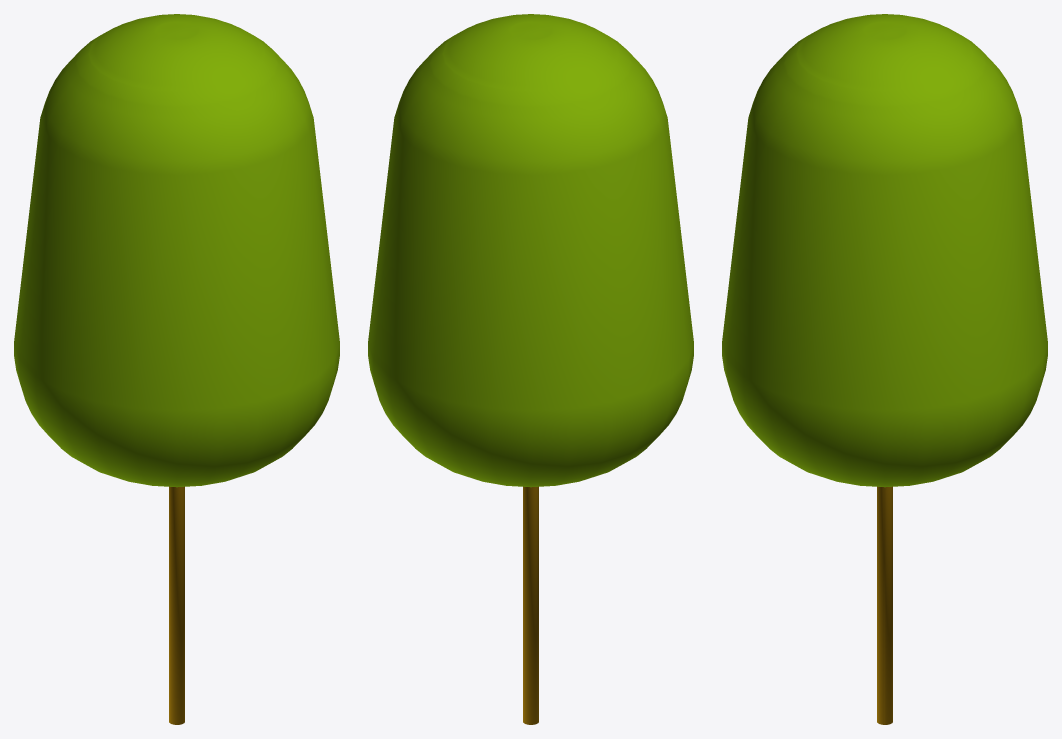
Rendered from HPSo21m.glb.
3 views of the same model, side by side, from view 1: azimuth 30°, elevation 25°; view 2: azimuth 150°, elevation 25°; view 3: azimuth 270°, elevation 25° (orthographic).
Visible parts, largest first — view 1: HPSo21m; view 2: HPSo21m; view 3: HPSo21m.
Part boxes in pixels (x1=…): HPSo21m: x1=14, y1=14, x2=339, y2=724; HPSo21m: x1=368, y1=14, x2=693, y2=724; HPSo21m: x1=722, y1=14, x2=1047, y2=724.
Size of the model in its own units: 8.97 by 21 by 8.97.
